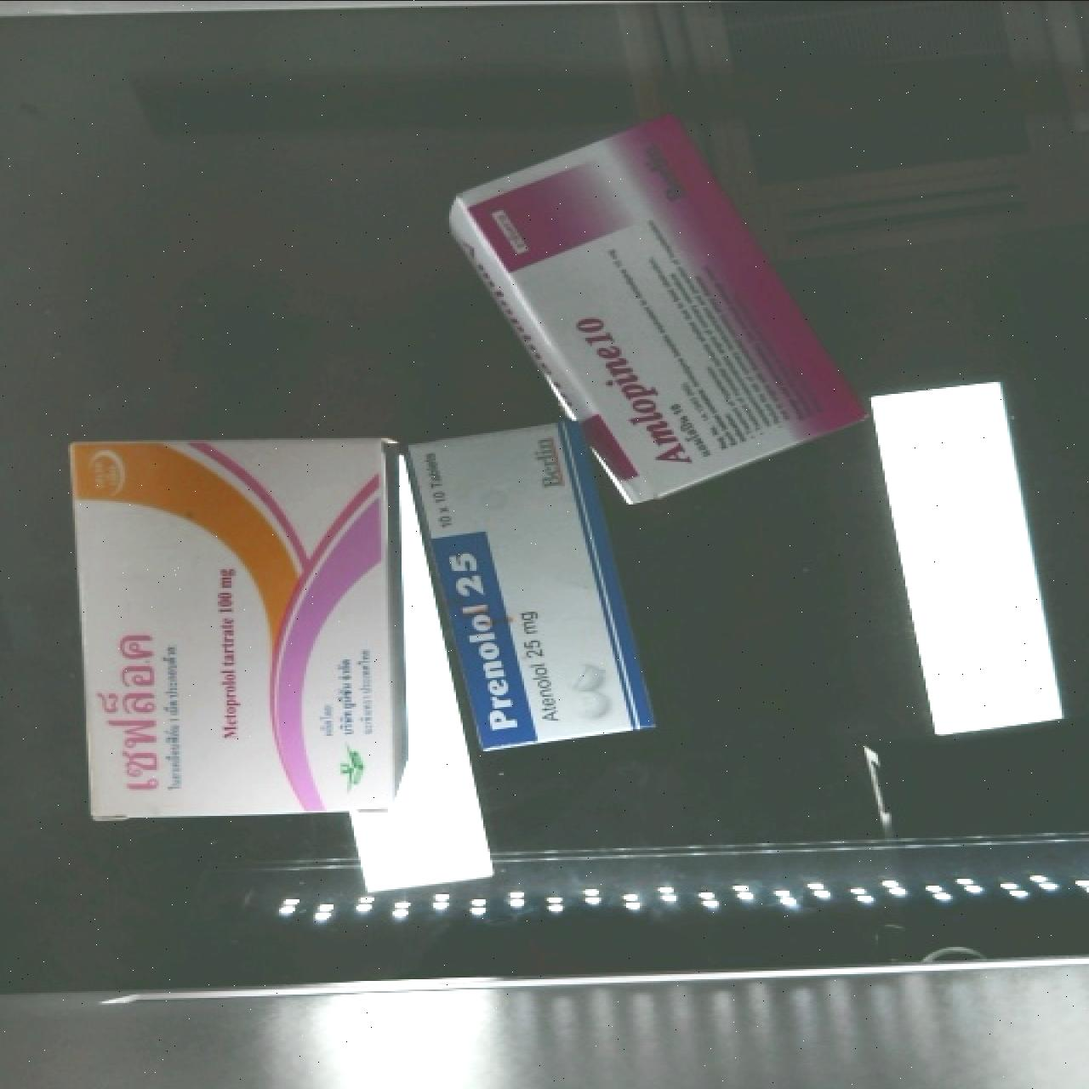medicine_label_obb: (540, 285, 720, 506), (429, 531, 536, 753), (85, 624, 176, 816)
